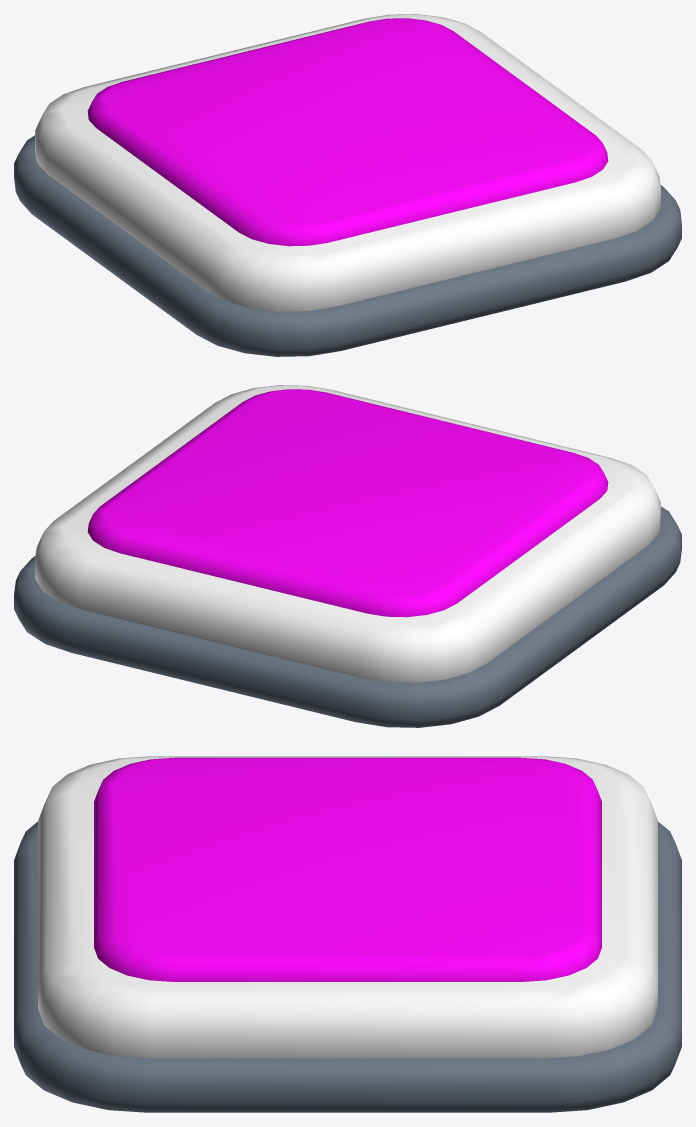
File: Plot_Pedestal.glb
The picture shows the model from 3 angles, top to bottom: view 1: azimuth 30°, elevation 25°; view 2: azimuth 150°, elevation 25°; view 3: azimuth 270°, elevation 25°; orthographic projection. The views are drawn at different scales.
Visible parts, largest first — view 1: Accent_FF00FF, Rim_FFFFFF, BaseLip_6B7686; view 2: Accent_FF00FF, Rim_FFFFFF, BaseLip_6B7686; view 3: Accent_FF00FF, Rim_FFFFFF, BaseLip_6B7686.
Part boxes in pixels (x1,y1,x2,y2): Accent_FF00FF: [87, 18, 608, 246]; Rim_FFFFFF: [35, 14, 660, 311]; BaseLip_6B7686: [14, 135, 681, 356]; Accent_FF00FF: [87, 389, 608, 617]; Rim_FFFFFF: [35, 385, 660, 682]; BaseLip_6B7686: [14, 506, 681, 727]; Accent_FF00FF: [94, 757, 601, 981]; Rim_FFFFFF: [38, 756, 657, 1058]; BaseLip_6B7686: [14, 821, 681, 1112].
Bounding box in the file's own units: 5 × 1 × 5.
